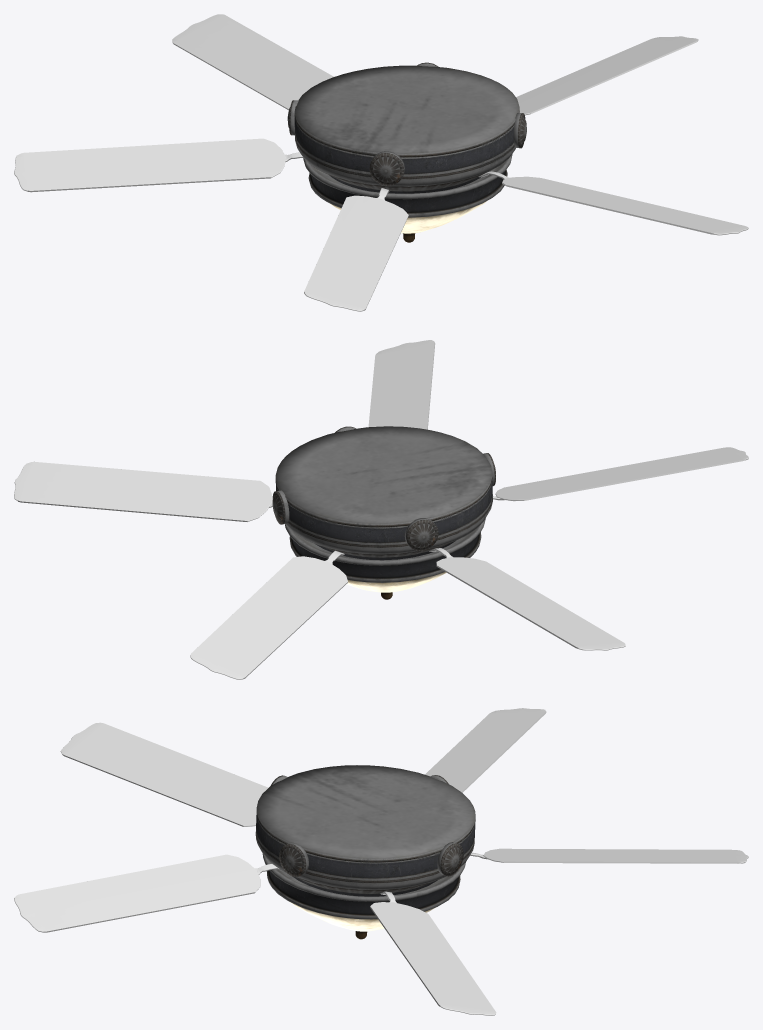
File: ceilingfan.glb
The picture shows the model from 3 angles, top to bottom: view 1: azimuth 30°, elevation 25°; view 2: azimuth 150°, elevation 25°; view 3: azimuth 270°, elevation 25°; orthographic projection. The views are drawn at different scales.
Parts seen in each view (by area): view 1: Vent_Main; view 2: Vent_Main; view 3: Vent_Main.
Part boxes in pixels (x1,y1,x2,y2): Vent_Main: [14, 14, 748, 311]; Vent_Main: [14, 340, 748, 679]; Vent_Main: [14, 708, 748, 1015].
Bounding box in the file's own units: 937 × 186 × 944.
Materials: 2 (1 with a texture image).
